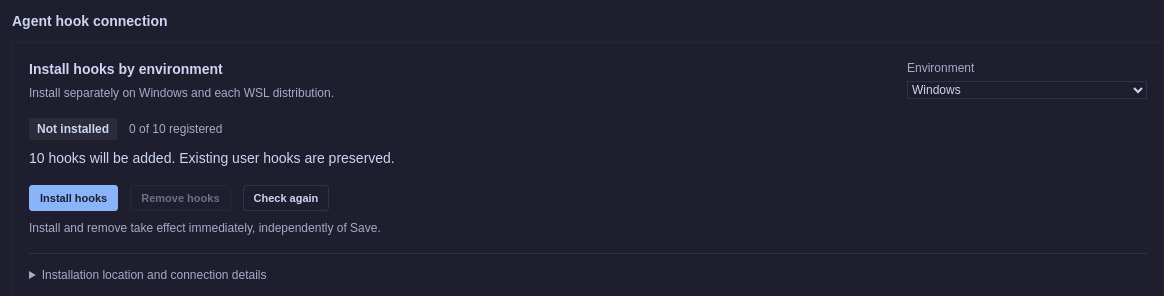
it: AgentHooksSection › previews added hooks before installation and explains reinstall without duplicates
Expected: the text with test id "agent-hooks-install-summary" shows "10 hooks will be added", [29,150,395,166]
Click the button with test id "agent-hooks-install": click(74, 198) [29,185,118,211]
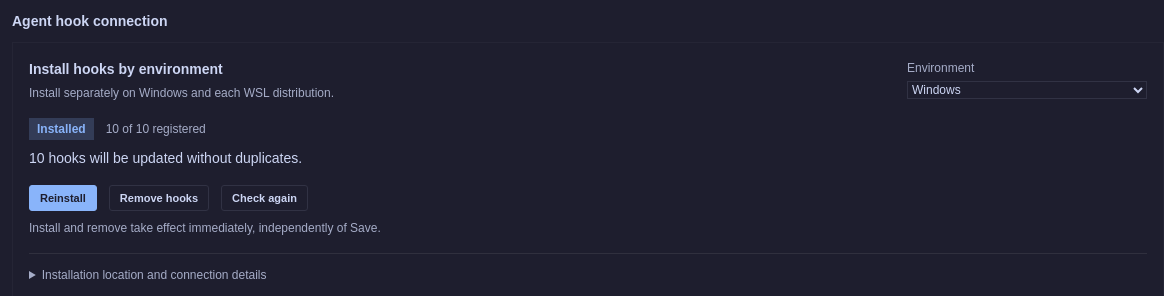
Result: the text with test id "agent-hooks-install-summary" shows "10 hooks will be updated" at [29,150,302,166]
Result: the text with test id "agent-hooks-install-summary" shows "without duplicates" at [29,150,302,166]
